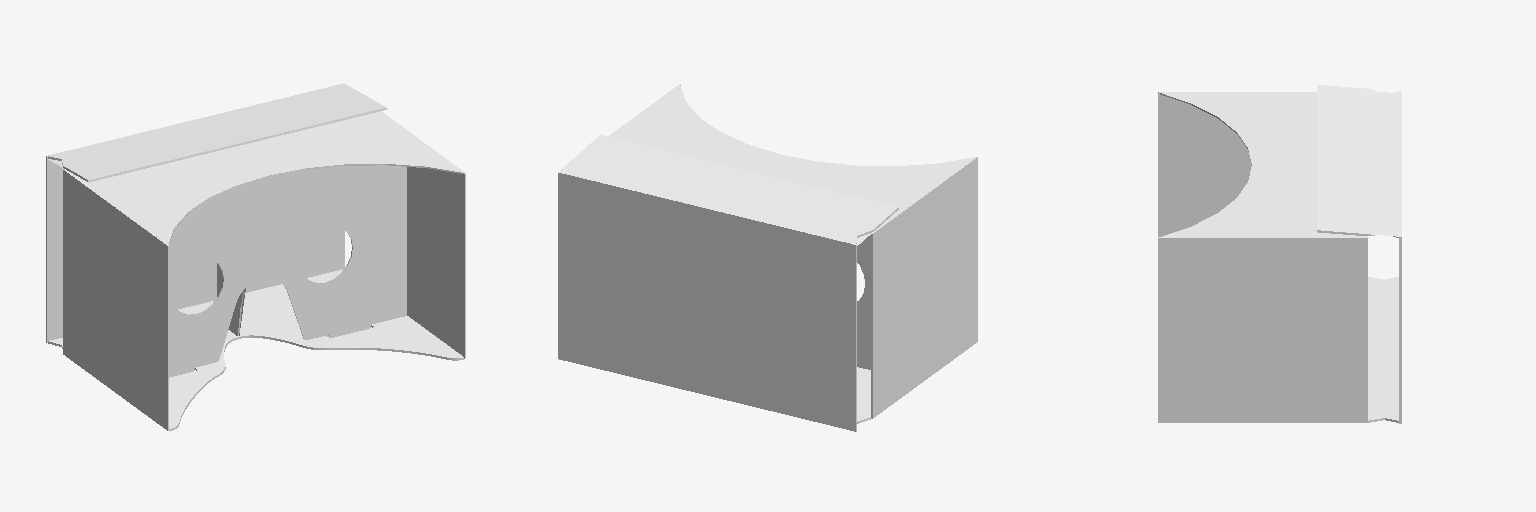
File: CBViewerClosed.obj
The picture shows the model from 3 angles: view 1: azimuth 30°, elevation 25°; view 2: azimuth 150°, elevation 25°; view 3: azimuth 270°, elevation 25°; orthographic projection.
Parts seen in each view (by area): view 1: 016_ViewerLensInside_1, 006_ViewerLeftOutside_1, 002_ViewerTopOutside_1, 001_ViewerLugOutside_1, 012_ViewerRightInside_1, 013_ViewerBottomInside_1, 008_ViewerPhoneInside_1, 000_Edges; view 2: 003_ViewerPhoneOutside_1, 006_ViewerLeftOutside_1, 001_ViewerLugOutside_1, 002_ViewerTopOutside_1, 007_ViewerLensOutside_1, 000_Edges, 013_ViewerBottomInside_1; view 3: 004_ViewerRightOutside_1, 002_ViewerTopOutside_1, 001_ViewerLugOutside_1, 011_ViewerLeftInside_1, 013_ViewerBottomInside_1, 000_Edges.
Part boxes in pixels (left/top/right/bottom): 016_ViewerLensInside_1: left=169, top=165, right=406, bottom=377; 006_ViewerLeftOutside_1: left=63, top=170, right=167, bottom=430; 002_ViewerTopOutside_1: left=64, top=111, right=464, bottom=245; 001_ViewerLugOutside_1: left=48, top=83, right=386, bottom=179; 012_ViewerRightInside_1: left=407, top=167, right=464, bottom=358; 013_ViewerBottomInside_1: left=49, top=269, right=463, bottom=428; 008_ViewerPhoneInside_1: left=47, top=157, right=344, bottom=342; 000_Edges: left=46, top=108, right=465, bottom=430; 003_ViewerPhoneOutside_1: left=558, top=173, right=855, bottom=431; 006_ViewerLeftOutside_1: left=873, top=157, right=977, bottom=417; 001_ViewerLugOutside_1: left=559, top=135, right=898, bottom=244; 002_ViewerTopOutside_1: left=608, top=84, right=976, bottom=233; 007_ViewerLensOutside_1: left=857, top=235, right=870, bottom=369; 000_Edges: left=558, top=84, right=975, bottom=431; 013_ViewerBottomInside_1: left=857, top=367, right=870, bottom=421; 004_ViewerRightOutside_1: left=1158, top=238, right=1367, bottom=422; 002_ViewerTopOutside_1: left=1159, top=92, right=1367, bottom=237; 001_ViewerLugOutside_1: left=1317, top=85, right=1401, bottom=236; 011_ViewerLeftInside_1: left=1158, top=93, right=1251, bottom=236; 013_ViewerBottomInside_1: left=1368, top=277, right=1398, bottom=420; 000_Edges: left=1158, top=91, right=1401, bottom=423.
Size of the model in its own units: 141 by 89.05 by 99.74.